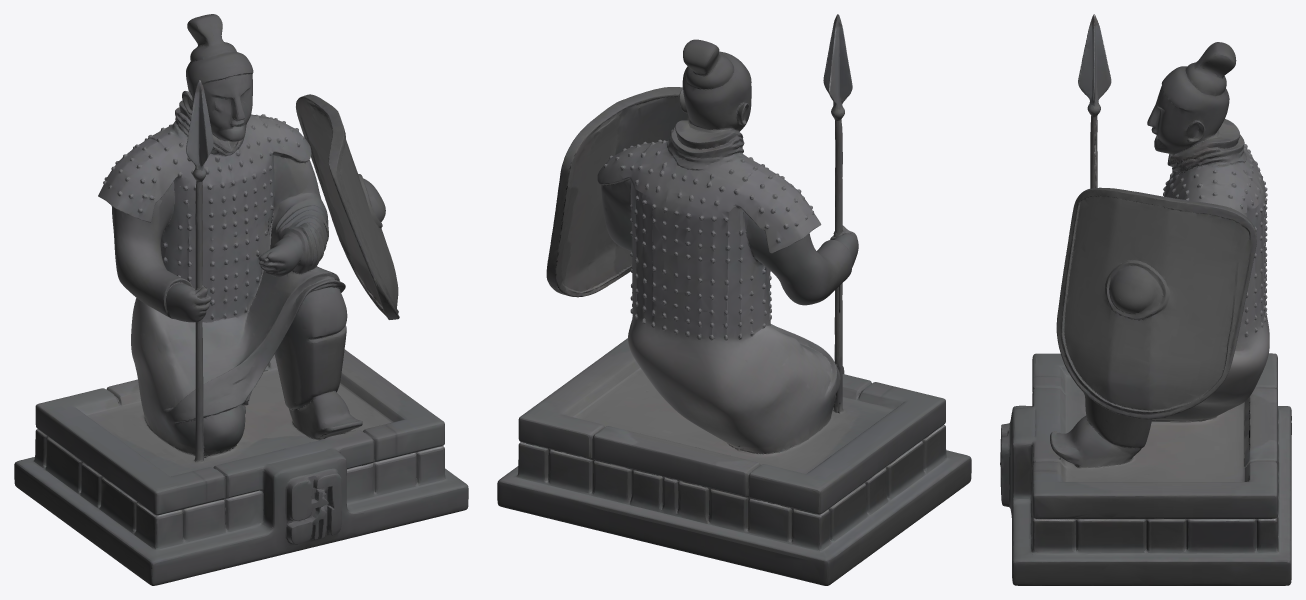
The model's file is pawn.glb.
3 renders of one model, left to right at view 1: azimuth 30°, elevation 25°; view 2: azimuth 150°, elevation 25°; view 3: azimuth 270°, elevation 25°, orthographic. The views are drawn at different scales.
Parts seen in each view (by area): view 1: model; view 2: model; view 3: model.
Part boxes in pixels (x1,y1,x2,y2): model: (14,14,468,585); model: (497,14,971,585); model: (1000,14,1291,585).
Size of the model in its own units: 1.38 by 1.9 by 1.08.
Materials: 1 (1 with a texture image).
